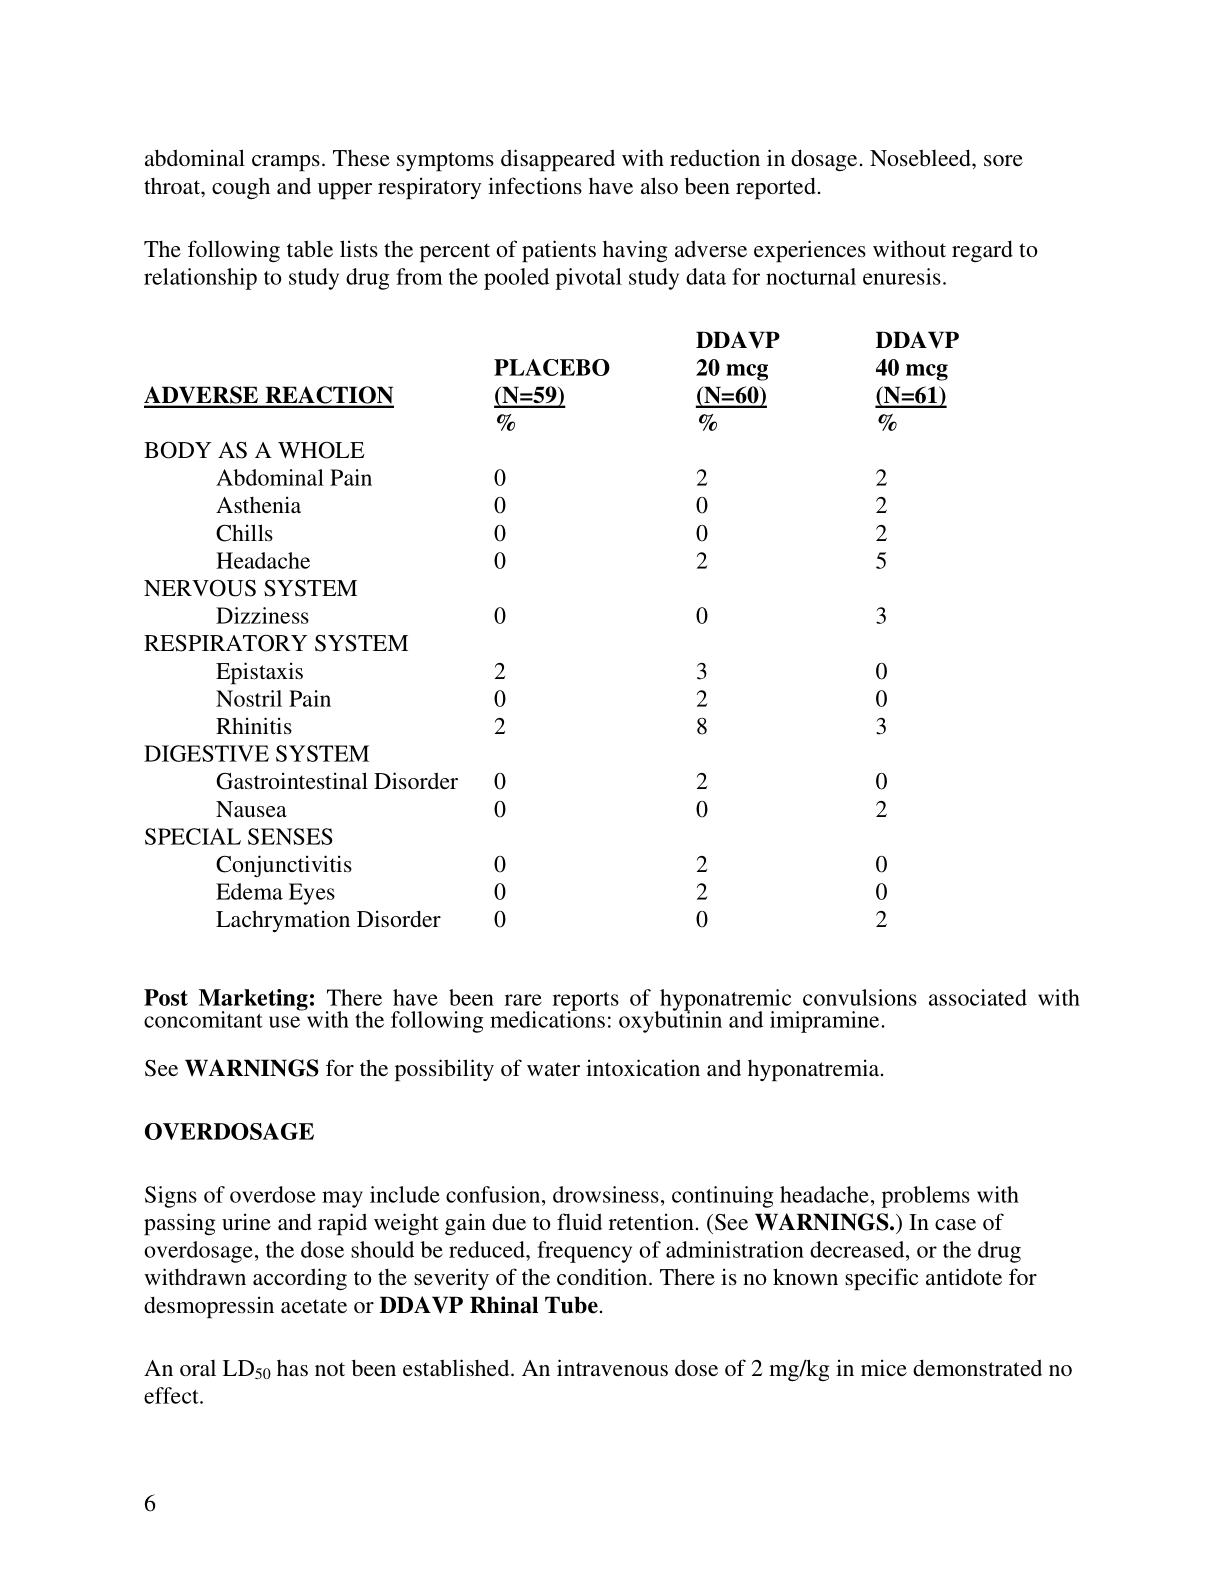nolines: (141, 324, 966, 936)
